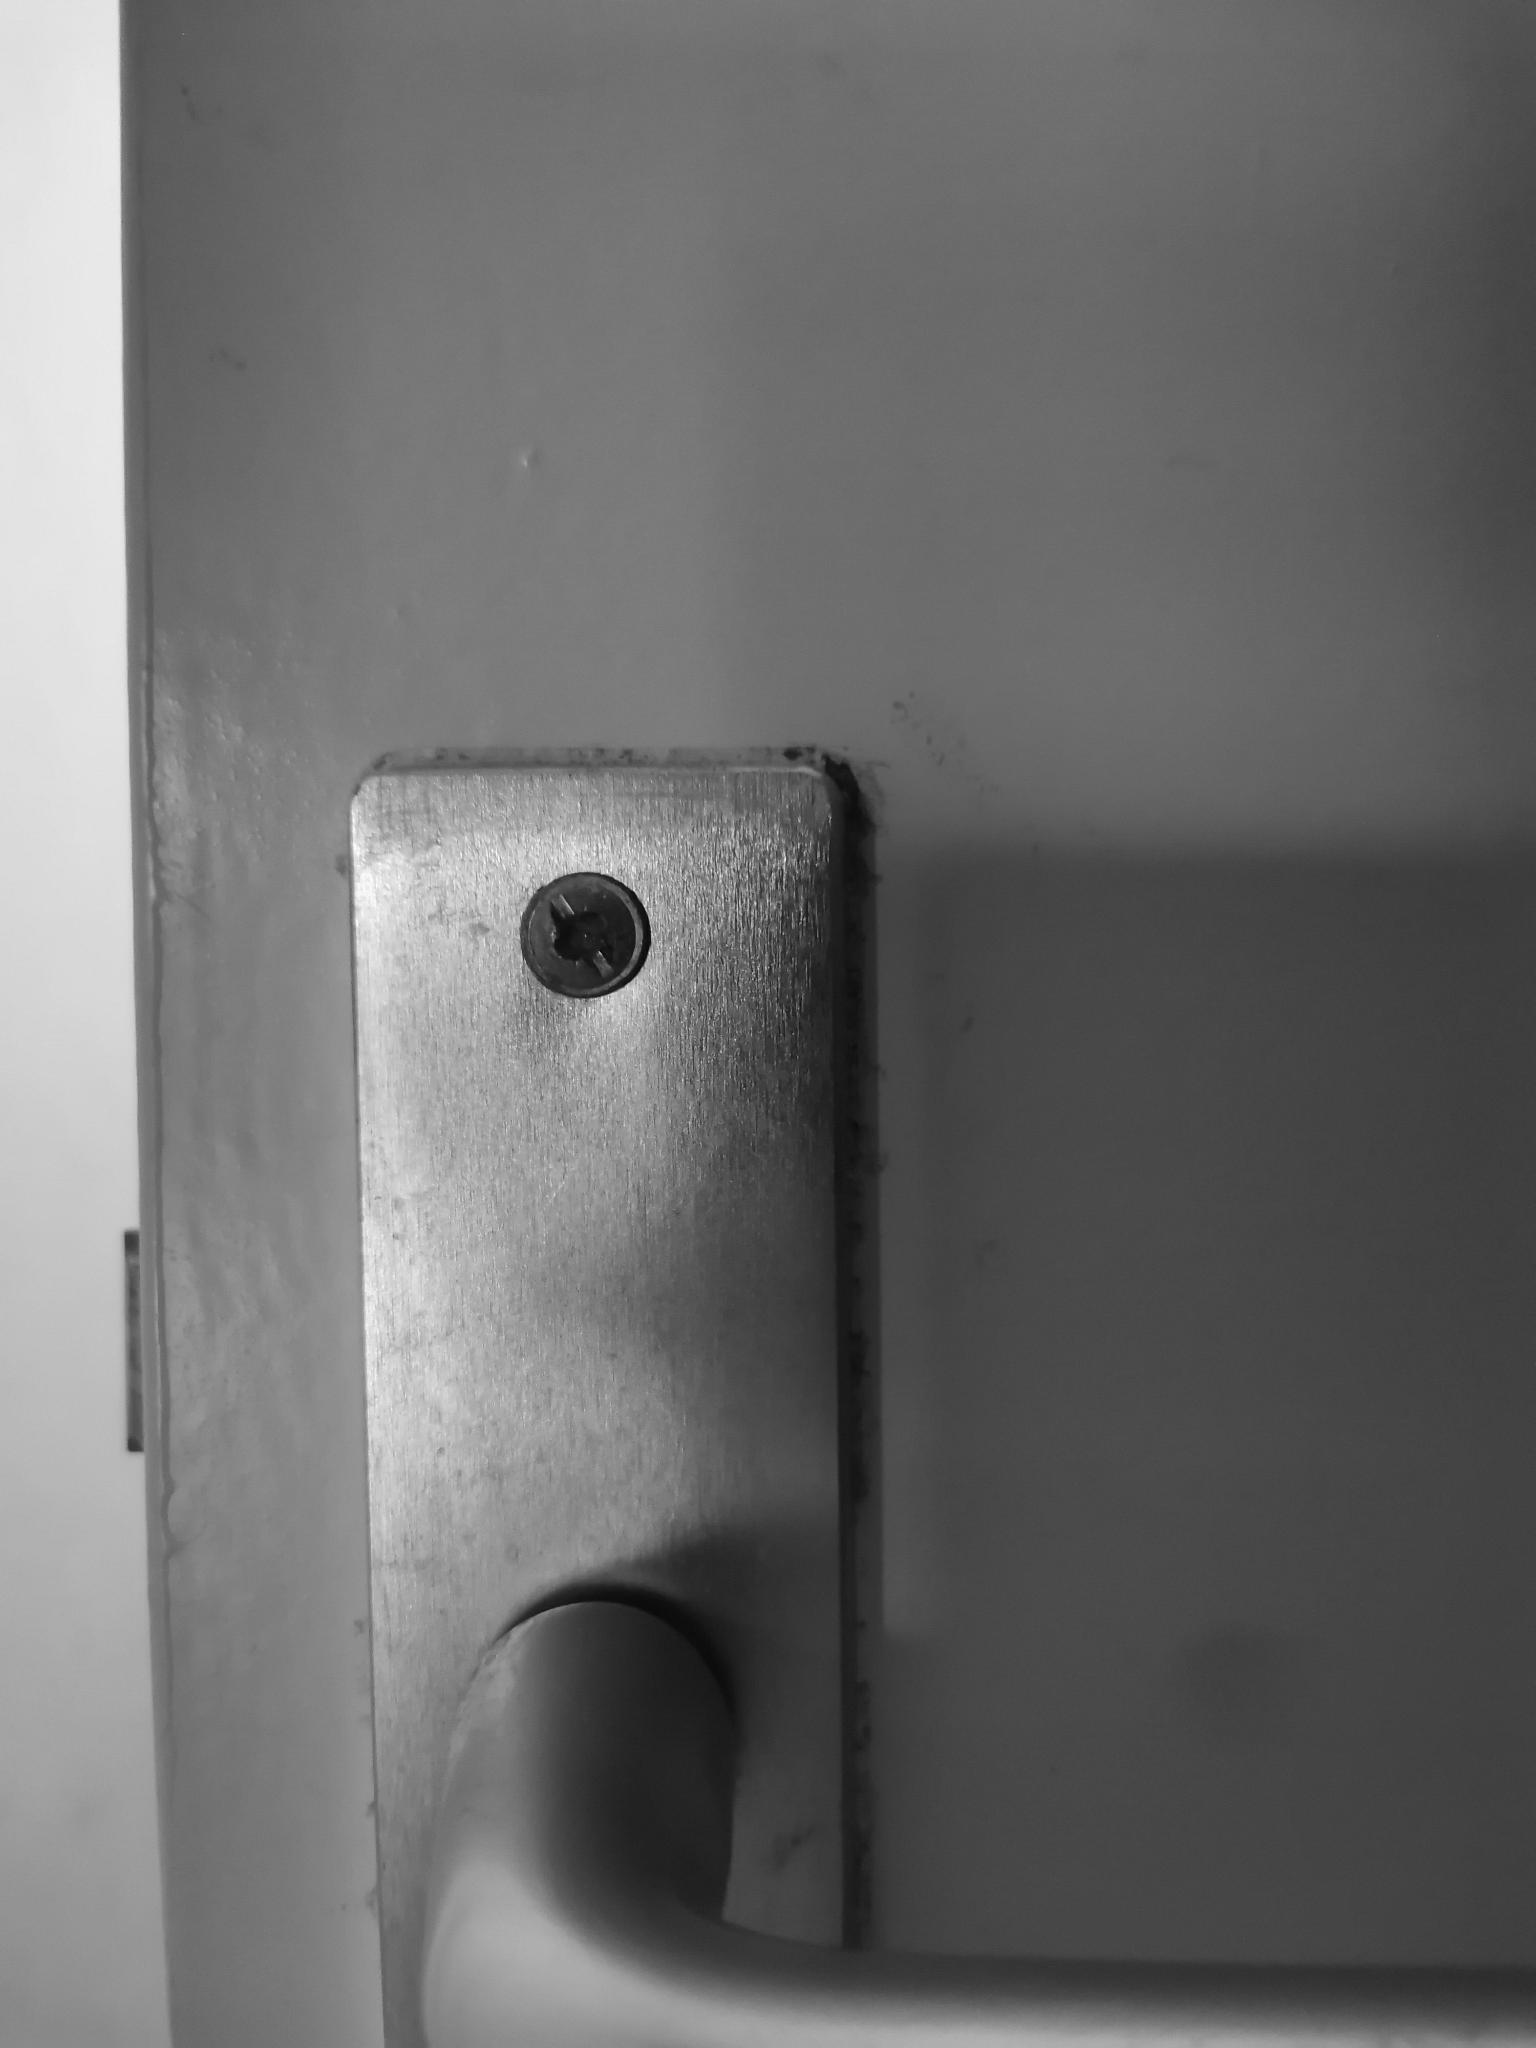philips-PZ: (500, 860, 660, 1016)
